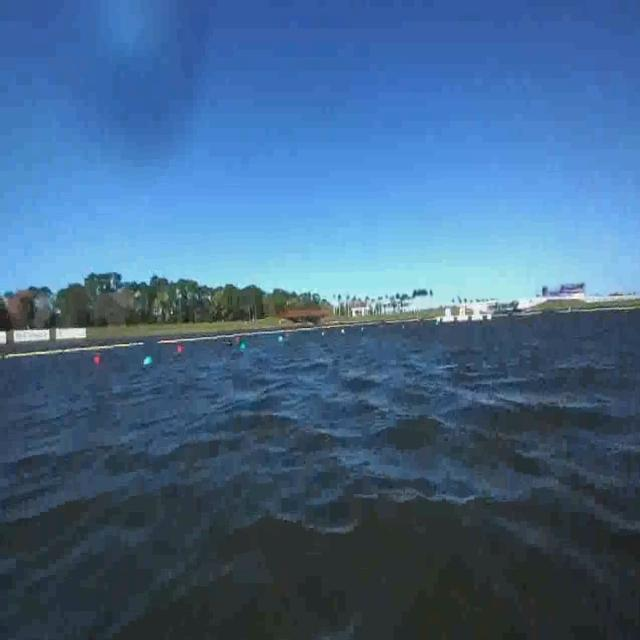green-buoy: (144, 356, 154, 366)
red-buoy: (91, 354, 100, 366)
